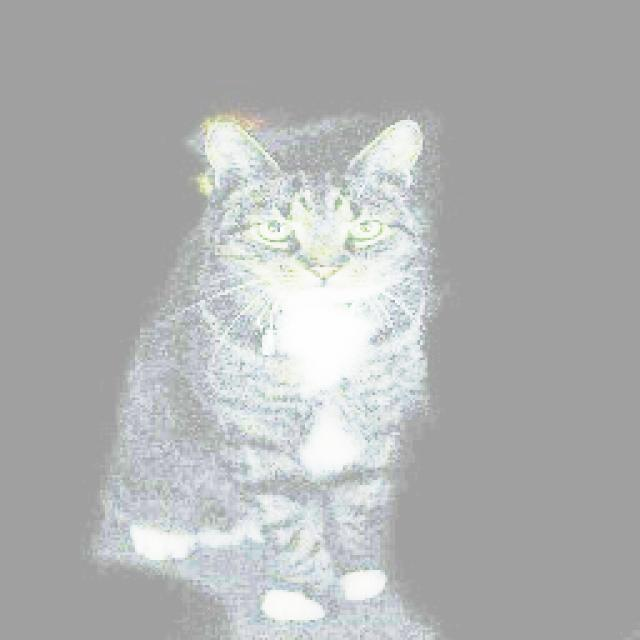cat: (101, 113, 431, 630)
